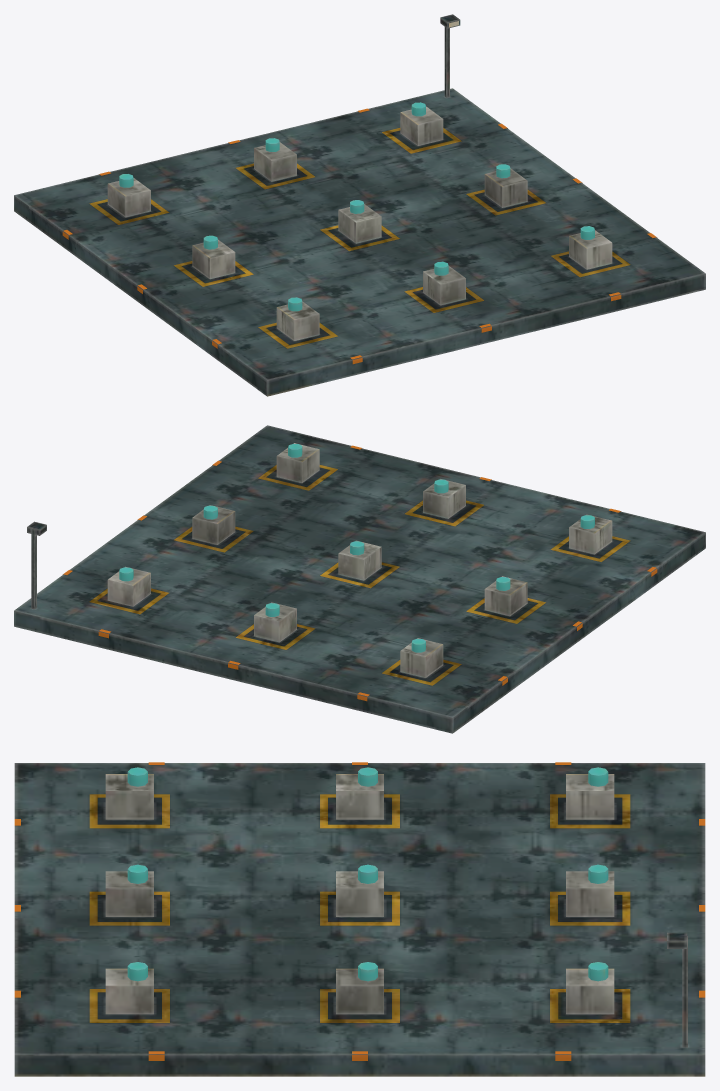
The model's file is robot_bay_large.glb.
3 views of the same model, one above another, from view 1: azimuth 30°, elevation 25°; view 2: azimuth 150°, elevation 25°; view 3: azimuth 270°, elevation 25° (orthographic). The views are drawn at different scales.
Visible parts, largest first — view 1: te_robot_bay_large; view 2: te_robot_bay_large; view 3: te_robot_bay_large.
Boxes of the visible parts, bbox=[...] form: te_robot_bay_large: bbox=[14, 14, 705, 396]; te_robot_bay_large: bbox=[14, 425, 705, 733]; te_robot_bay_large: bbox=[14, 762, 705, 1076].
Bounding box in the file's own units: 1.72 × 0.361 × 1.72.
1 material, 1 textured.
